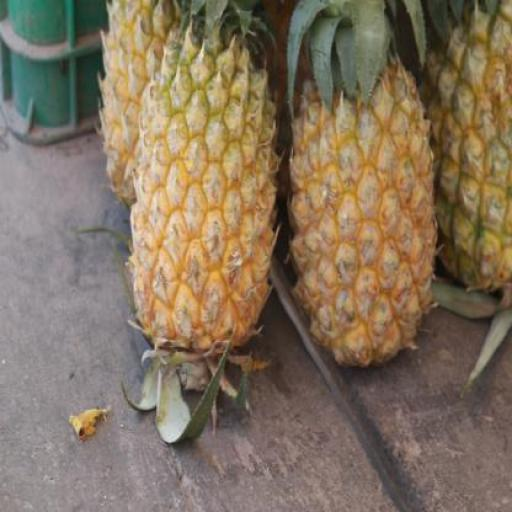Pineapple - v8 v1: (134, 31, 280, 354), (288, 58, 437, 360), (102, 0, 200, 203)
